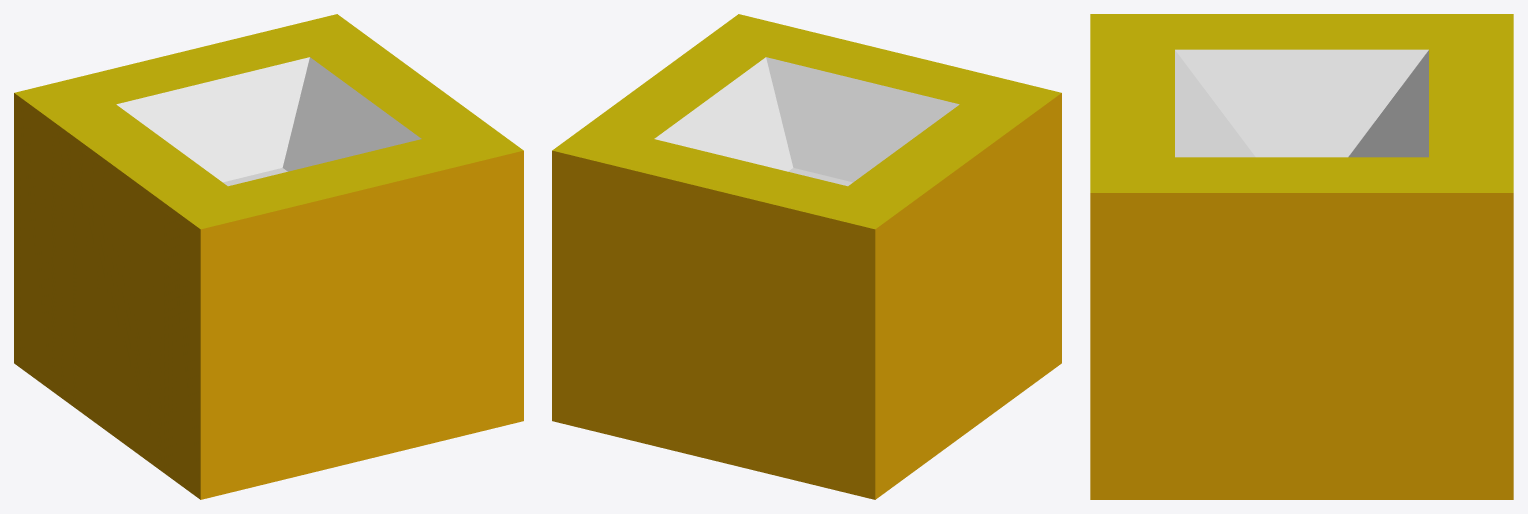
Rendered from light_block.dae.
3 views of the same model, side by side, from view 1: azimuth 30°, elevation 25°; view 2: azimuth 150°, elevation 25°; view 3: azimuth 270°, elevation 25° (orthographic). The views are drawn at different scales.
Visible parts, largest first — view 1: Cube; view 2: Cube; view 3: Cube.
Boxes of the visible parts, x1,y1,x2,y2 form: Cube: (14,14,523,499); Cube: (552,14,1061,499); Cube: (1090,14,1513,499).
Bounding box in the file's own units: 0.25 × 0.25 × 0.2.
